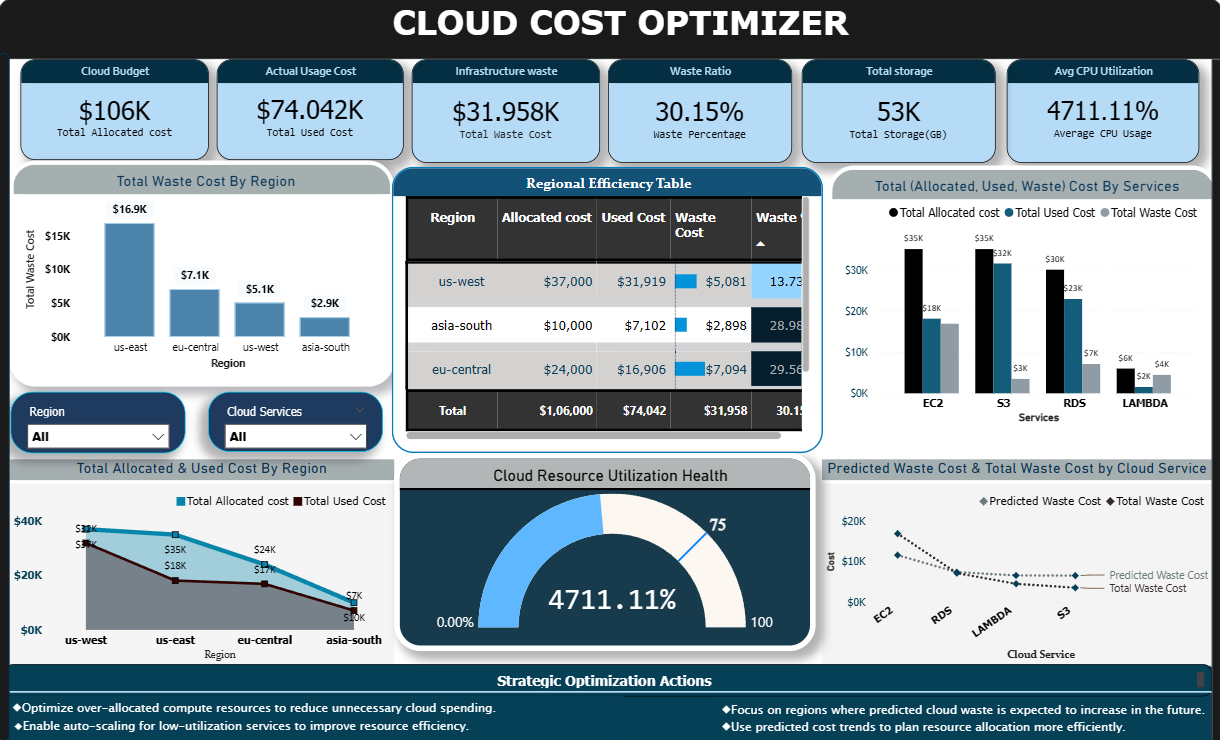

Layout of this report page (visuals, bound fields, positions):
{"tool":"powerbi","page":{"name":"Cloud Cost Overview","canvas":[1400,850],"ordinal":0},"visuals":[{"type":"shape","box":[0,0,1400,70],"z":0},{"type":"cardVisual","title":"Cloud Budget","fields":{"Data":["KPI_Measure.Total Allocated cost"]},"box":[25,70,215,115],"z":1000},{"type":"cardVisual","title":"Actual Usage Cost","fields":{"Data":["KPI_Measure.Total Used Cost"]},"box":[250,70,213.3,115],"z":2000},{"type":"cardVisual","title":"Infrastructure waste","fields":{"Data":["KPI_Measure.Total Waste Cost"]},"box":[473.3,70,215,118.3],"z":3000},{"type":"cardVisual","title":"Waste Ratio","fields":{"Data":["KPI_Measure.Waste Percentage"]},"box":[696.7,70,210,118.3],"z":4000},{"type":"cardVisual","title":"Avg CPU Utilization","fields":{"Data":["KPI_Measure.Average CPU Usage"]},"box":[1153.3,70,220,118.3],"z":5000},{"type":"cardVisual","title":"Total storage","fields":{"Data":["KPI_Measure.Total Storage(GB)"]},"box":[918.6,70,221.4,118.6],"z":6000},{"type":"clusteredColumnChart","title":"Total Waste Cost By Region","fields":{"Category":["CloudPrediction.region_clean"],"Y":["KPI_Measure.Total Waste Cost"]},"box":[13.3,185,440,258.3],"z":7000},{"type":"tableEx","title":"Regional Efficiency Table","fields":{"Values":["RegionCost.region_clean","KPI_Measure.Total Allocated cost","KPI_Measure.Total Used Cost","KPI_Measure.Total Waste Cost","KPI_Measure.Waste Percentage"]},"box":[450,192.9,492.9,327.1],"z":8000},{"type":"lineChart","title":"Total Allocated & Used Cost By Region","fields":{"Category":["RegionCost.region_clean"],"Y":["KPI_Measure.Total Allocated cost","KPI_Measure.Total Used Cost"]},"box":[13.3,526.7,440,235],"z":9000},{"type":"lineChart","title":"Predicted Waste Cost & Total Waste Cost by Cloud Service","fields":{"Category":["ServiceCost.service_clean"],"Y":["KPI_Measure.Predicted waste Cost","KPI_Measure.Total Waste Cost"]},"box":[941.7,526.7,446.7,235],"z":10000},{"type":"clusteredColumnChart","title":"Total (Allocated, Used, Waste) Cost By Services","fields":{"Y":["KPI_Measure.Total Allocated cost","KPI_Measure.Total Used Cost","KPI_Measure.Total Waste Cost"],"Category":["ServiceCost.service_clean"]},"box":[948.6,191.4,445.7,314.3],"z":11000},{"type":"slicer","fields":{"Values":["ServiceCost.service_clean"]},"box":[240,450,200,68.6],"z":12000},{"type":"slicer","fields":{"Values":["RegionCost.region_clean"]},"box":[14,450,200,70],"z":13000},{"type":"shape","box":[0,761.7,1400,88.3],"z":14000},{"type":"textbox","box":[6.7,761.7,1380,36.7],"z":15000},{"type":"shape","box":[0,786.7,1400,11.7],"z":16000},{"type":"textbox","box":[0,797.1,714.3,52.9],"z":17000},{"type":"textbox","box":[821.4,798.6,578.6,51.4],"z":18000},{"type":"gauge","title":"Cloud Resource Utilization Health","fields":{"Y":["KPI_Measure.Average CPU Usage"],"MinValue":["KPI_Measure.Min Gauge"],"MaxValue":["KPI_Measure.Max gauge"],"TargetValue":["KPI_Measure.target gauage"]},"box":[453.3,520,481.7,226.7],"z":19000},{"type":"shape","box":[0,63.3,13.3,786.7],"z":20000},{"type":"shape","box":[1386.7,70,11.7,780],"z":21000},{"type":"textbox","box":[328.3,0,765,63.3],"z":22000}]}

Visuals, with their boxes in screenshot pixels (x1, y1, x2, y2), scaled from the page's 1400x850 canvas onto the 1220x740 screenshot:
shape: [left=0, top=0, right=1219, bottom=61]
"Cloud Budget" cardVisual: [left=22, top=61, right=209, bottom=161]
"Actual Usage Cost" cardVisual: [left=218, top=61, right=404, bottom=161]
"Infrastructure waste" cardVisual: [left=412, top=61, right=600, bottom=164]
"Waste Ratio" cardVisual: [left=607, top=61, right=790, bottom=164]
"Avg CPU Utilization" cardVisual: [left=1005, top=61, right=1197, bottom=164]
"Total storage" cardVisual: [left=800, top=61, right=993, bottom=164]
"Total Waste Cost By Region" clusteredColumnChart: [left=12, top=161, right=395, bottom=386]
"Regional Efficiency Table" tableEx: [left=392, top=168, right=822, bottom=453]
"Total Allocated & Used Cost By Region" lineChart: [left=12, top=459, right=395, bottom=663]
"Predicted Waste Cost & Total Waste Cost by Cloud Service" lineChart: [left=821, top=459, right=1210, bottom=663]
"Total (Allocated, Used, Waste) Cost By Services" clusteredColumnChart: [left=827, top=167, right=1215, bottom=440]
slicer - ServiceCost.service_clean: [left=209, top=392, right=383, bottom=451]
slicer - RegionCost.region_clean: [left=12, top=392, right=186, bottom=453]
shape: [left=0, top=663, right=1219, bottom=739]
textbox: [left=6, top=663, right=1208, bottom=695]
shape: [left=0, top=685, right=1219, bottom=695]
textbox: [left=0, top=694, right=622, bottom=739]
textbox: [left=716, top=695, right=1219, bottom=739]
"Cloud Resource Utilization Health" gauge: [left=395, top=453, right=815, bottom=650]
shape: [left=0, top=55, right=12, bottom=739]
shape: [left=1208, top=61, right=1219, bottom=739]
textbox: [left=286, top=0, right=953, bottom=55]
